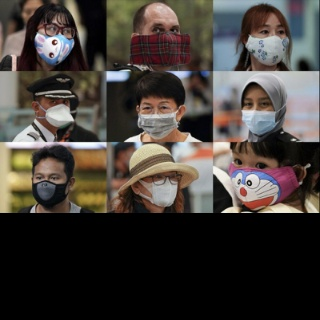with_mask: (230, 145, 294, 211), (140, 23, 182, 68), (35, 20, 76, 64), (249, 22, 288, 64), (32, 168, 70, 208), (141, 169, 181, 207), (140, 98, 180, 135), (241, 94, 276, 135), (40, 96, 71, 126)
